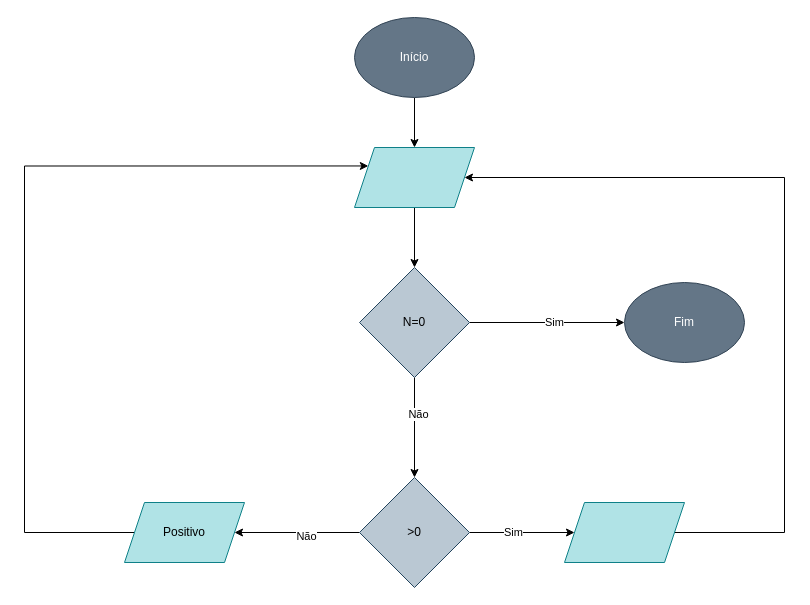
The diagram is 810 pixels wide and 605 high, and some of its shapes have lost their labels. Each missing label, with the centre of its shape:
Ler N: (414,177)
Negativo: (624,532)
